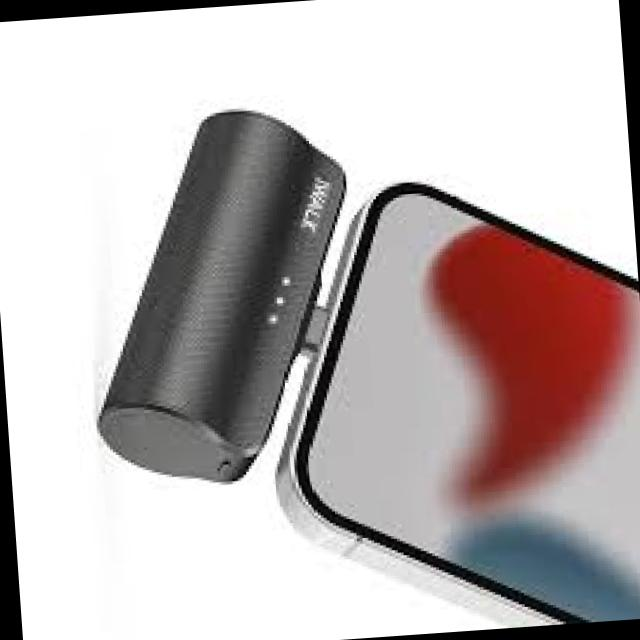power_bank: (74, 102, 368, 497)
